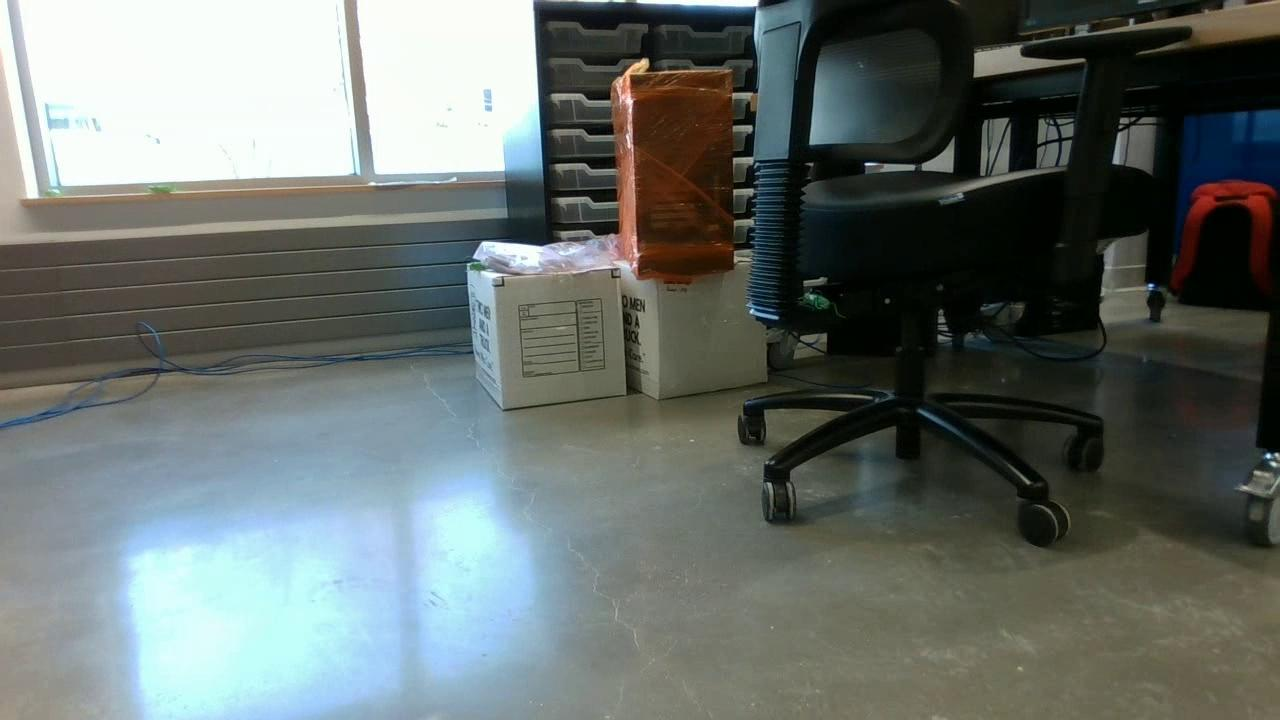grasshopper: (794, 277, 840, 311), (456, 254, 493, 279), (144, 178, 179, 198), (40, 184, 66, 205)
